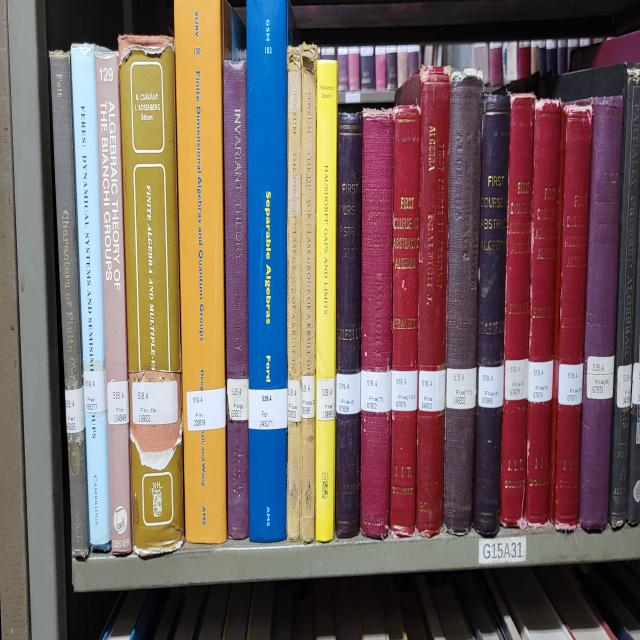Book: (552, 65, 640, 528), (174, 0, 232, 544), (246, 0, 288, 541), (119, 38, 181, 373), (71, 43, 111, 552), (50, 51, 90, 557), (579, 97, 624, 530), (95, 51, 132, 555), (550, 106, 592, 530), (472, 95, 510, 536), (416, 68, 450, 536), (525, 100, 561, 525), (501, 95, 535, 525), (360, 111, 394, 538), (390, 106, 420, 536), (224, 60, 249, 538), (335, 111, 362, 538), (315, 60, 338, 541), (446, 73, 482, 368), (300, 43, 318, 544), (286, 46, 301, 541)
Label: (132, 381, 178, 425), (186, 387, 226, 430), (249, 387, 288, 430), (586, 354, 615, 400), (361, 371, 391, 414), (446, 368, 476, 409), (478, 365, 504, 409), (528, 360, 554, 403), (558, 363, 584, 406), (391, 371, 418, 411), (419, 371, 446, 411), (84, 371, 108, 414), (505, 357, 529, 400), (336, 373, 361, 414), (65, 387, 85, 436), (108, 381, 129, 425), (228, 379, 249, 422), (316, 379, 336, 419), (616, 365, 631, 409), (301, 376, 315, 419), (288, 379, 301, 422)
